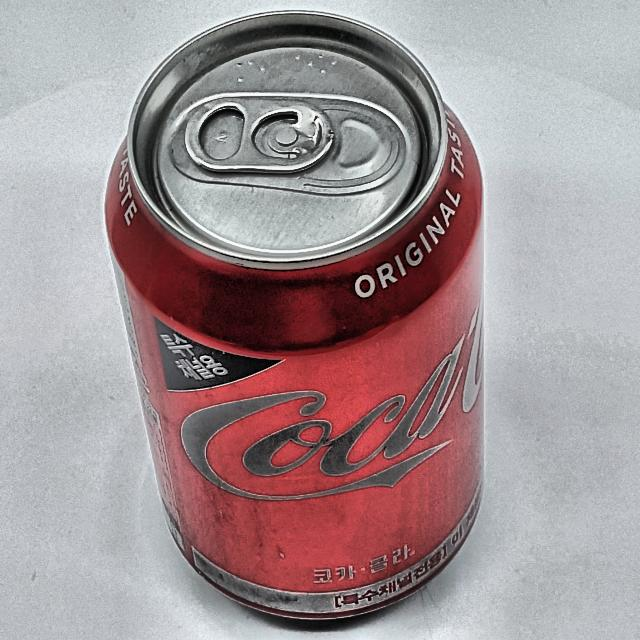cocacola: (105, 12, 482, 619)
